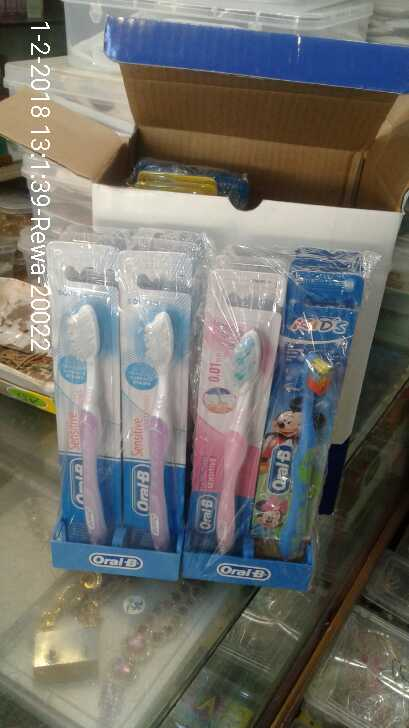oralb: (281, 329, 336, 568), (59, 306, 109, 547), (128, 309, 177, 553), (200, 316, 247, 555)
